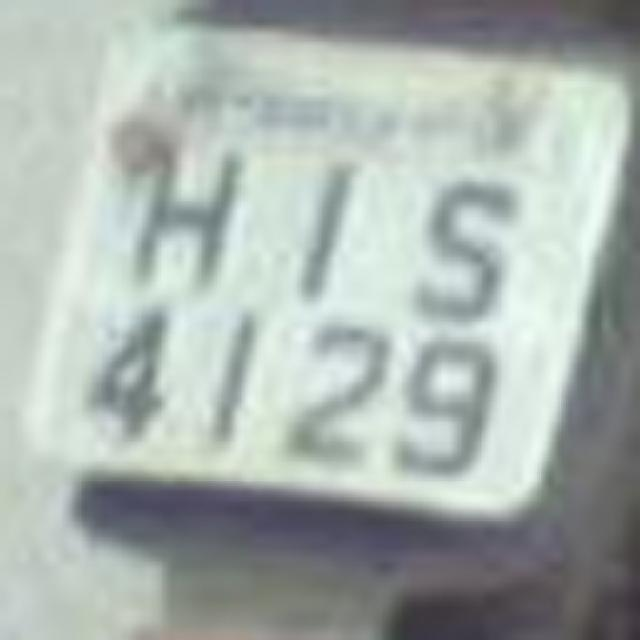1: (184, 304, 288, 464), (276, 152, 364, 312)
2: (276, 300, 404, 472)
4: (72, 292, 192, 488)
9: (380, 296, 525, 484)
H: (116, 148, 236, 304)
S: (396, 152, 516, 308)
